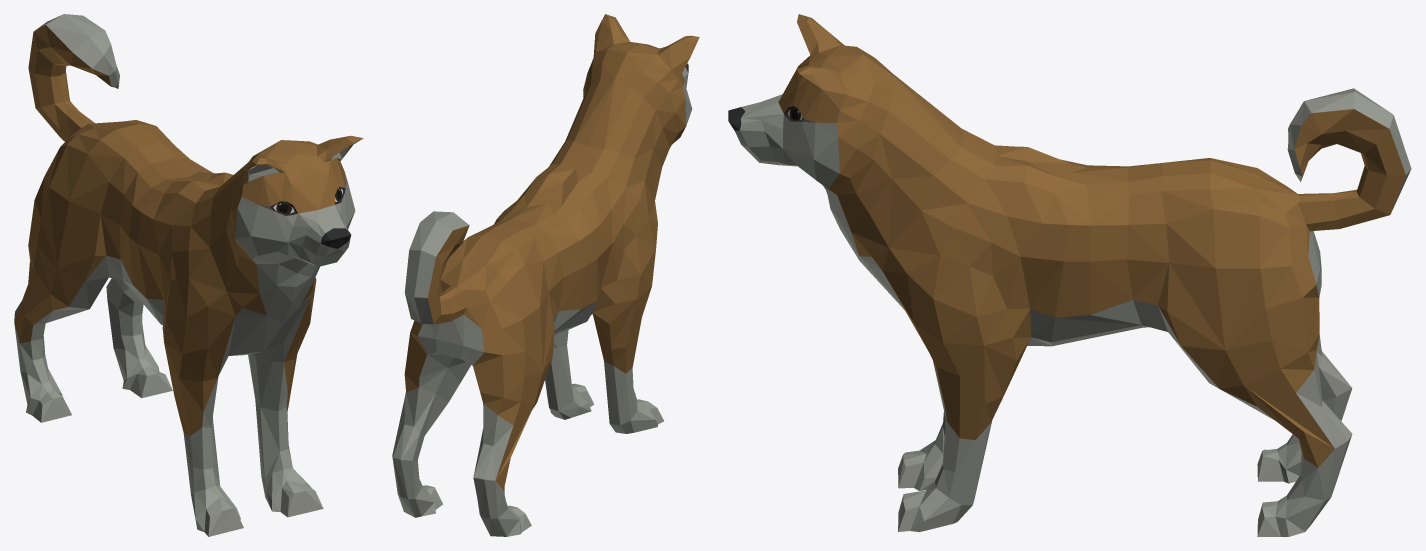
Rendered from shiba-inu.glb.
The picture shows the model from 3 angles, left to right: view 1: azimuth 30°, elevation 25°; view 2: azimuth 150°, elevation 25°; view 3: azimuth 270°, elevation 25°; orthographic projection. The views are drawn at different scales.
Visible parts, largest first — view 1: ShibaInu_baked; view 2: ShibaInu_baked; view 3: ShibaInu_baked.
Boxes of the visible parts, x1,y1,x2,y2 form: ShibaInu_baked: [14, 14, 363, 536]; ShibaInu_baked: [392, 14, 699, 536]; ShibaInu_baked: [728, 14, 1411, 536].
Size of the model in its own units: 1.07 by 3.09 by 4.16.
1 material, 1 textured.
